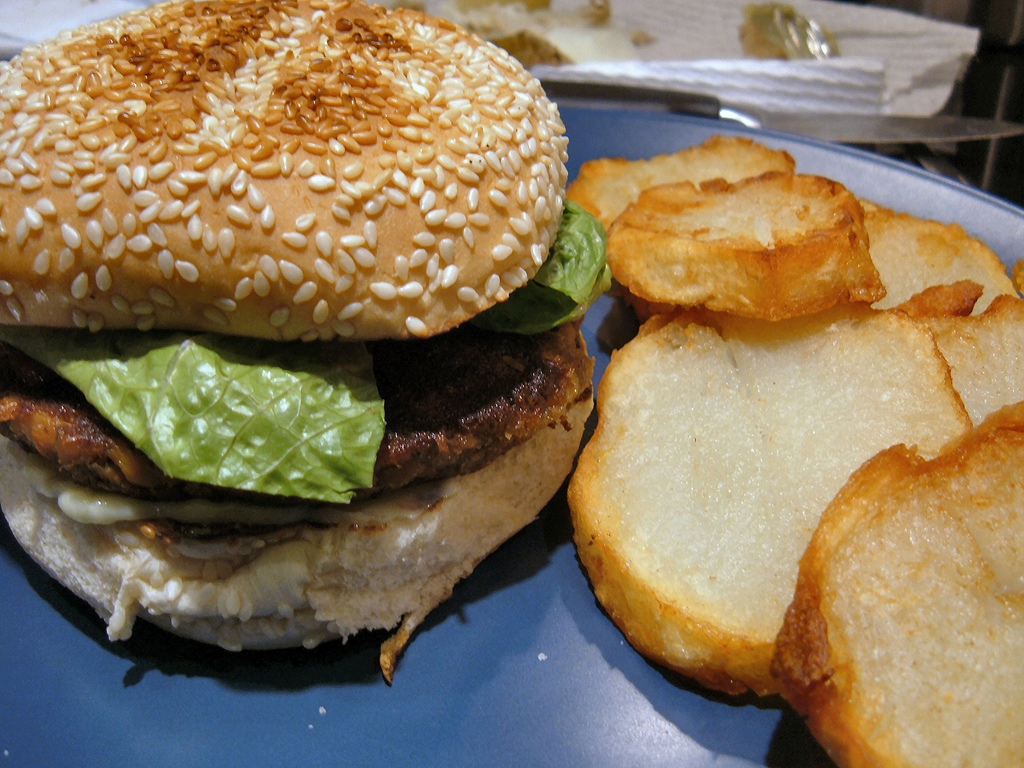slice of bread: (597, 296, 1024, 673), (1, 13, 534, 309), (1, 447, 582, 633), (797, 402, 1024, 764)
